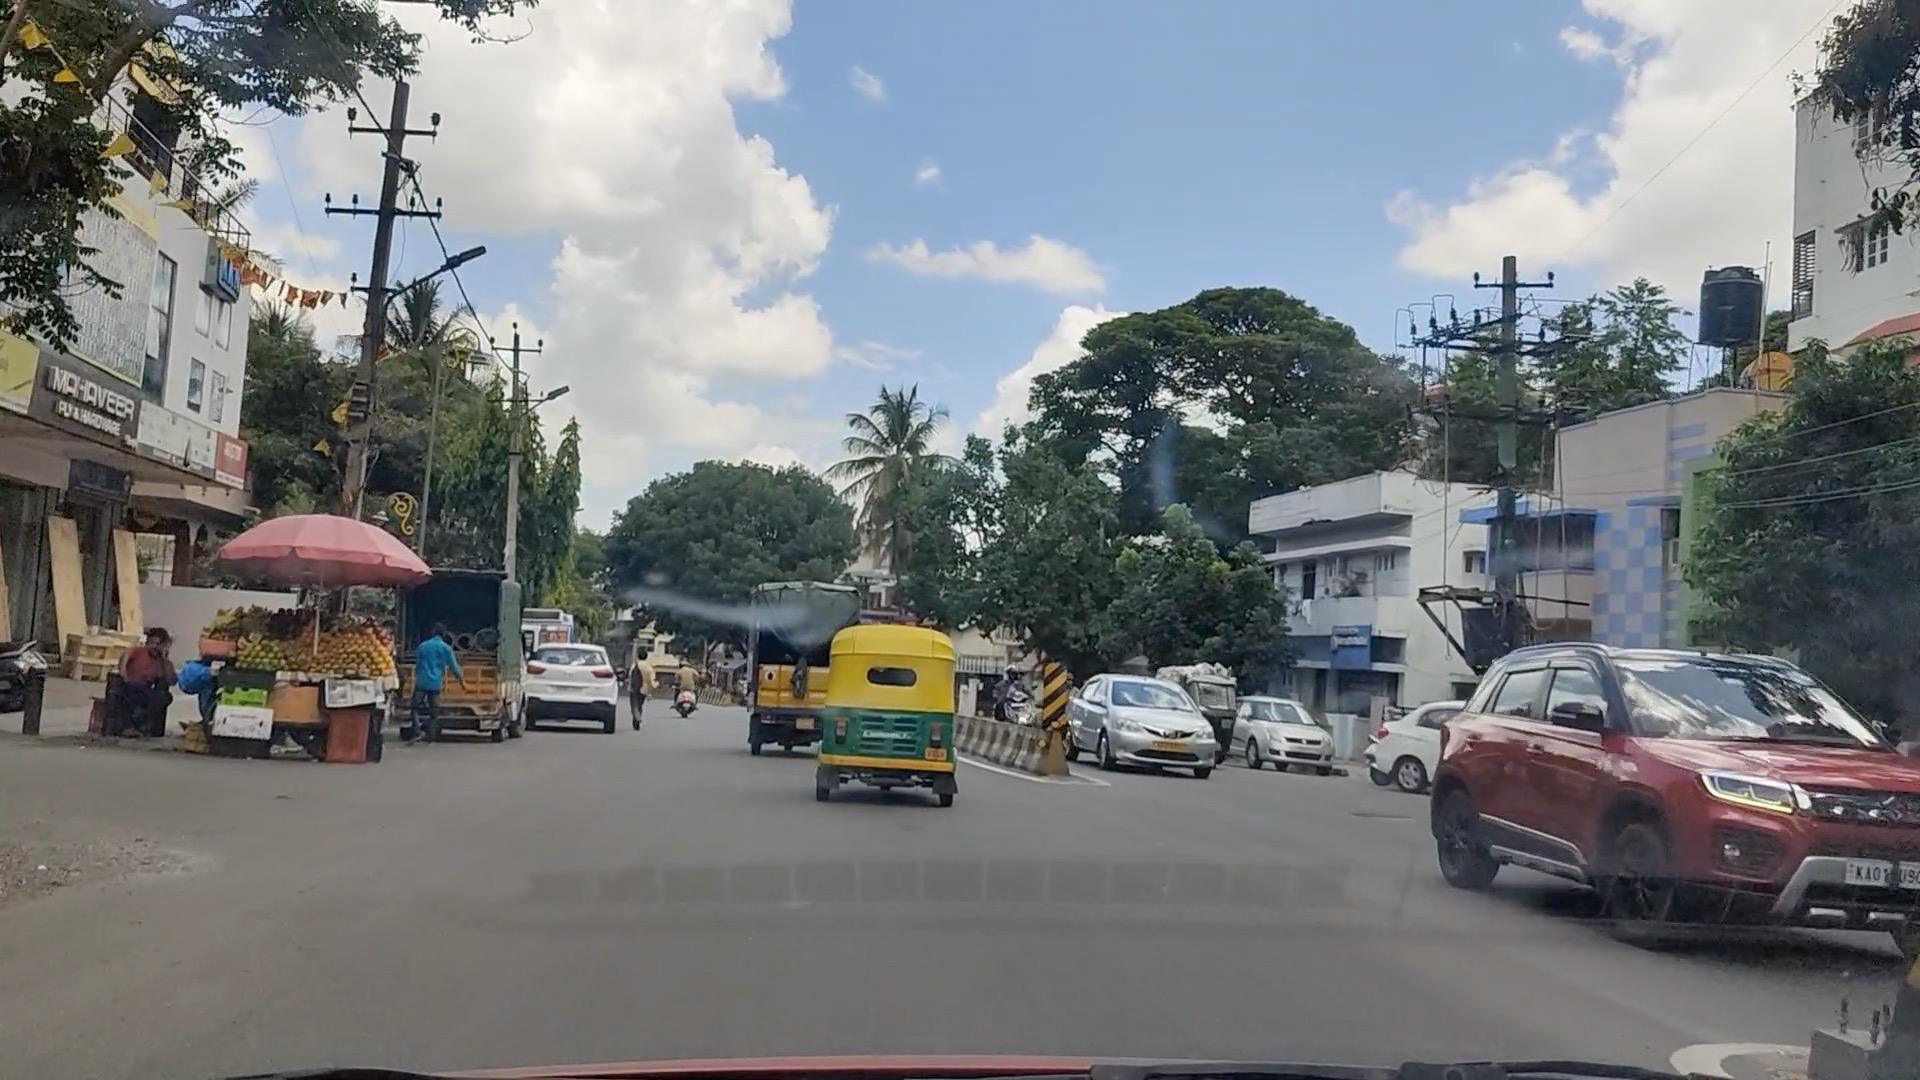LMV: (820, 624, 957, 770)
